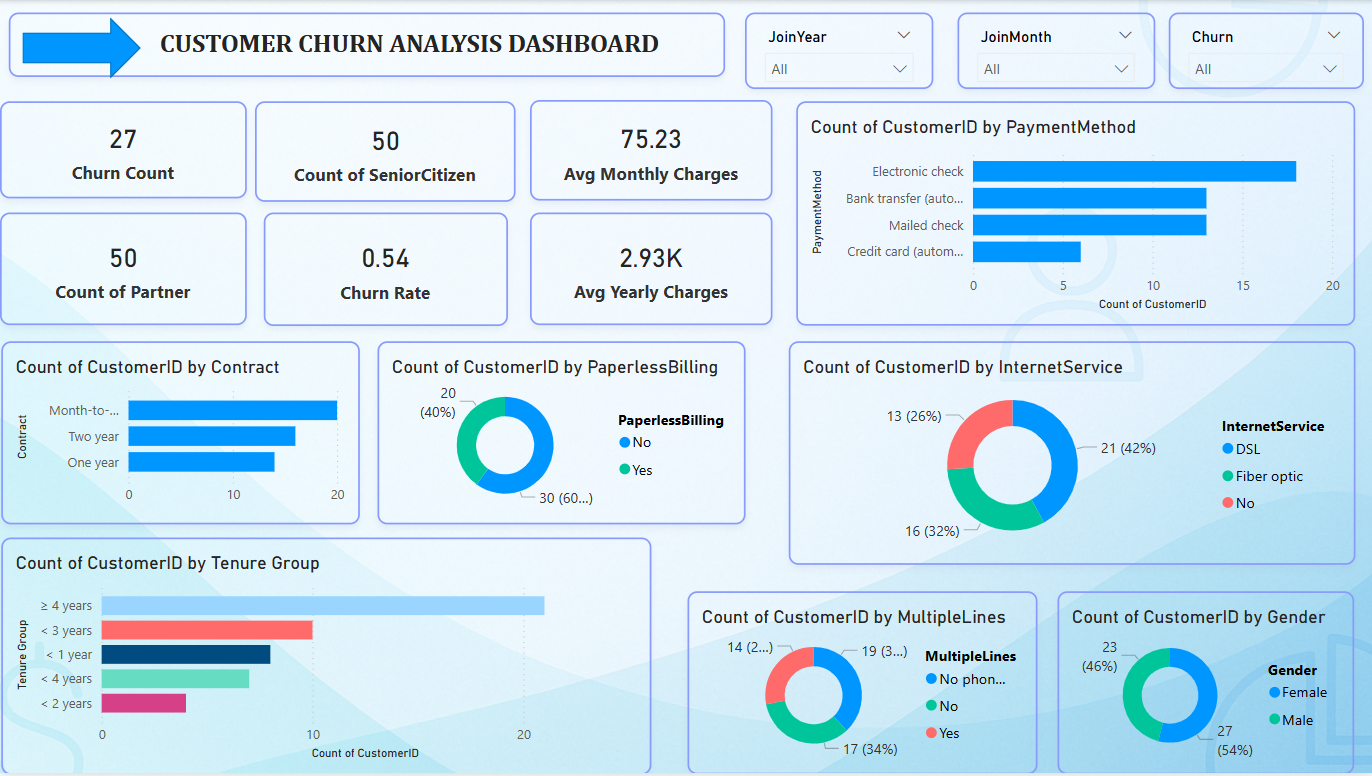

What the dashboard file says about the page in this screenshot:
{"tool":"powerbi","page":{"name":"Customer Churn Analysis","canvas":[1280,720],"ordinal":0},"visuals":[{"type":"card","fields":{"Values":["sample_customer_churn.Churn Count"]},"box":[0,93.7,229.3,90.1],"z":0},{"type":"card","fields":{"Values":["CountNonNull(sample_customer_churn.SeniorCitizen)"]},"box":[237.7,93.7,242.6,93.7],"z":1000},{"type":"card","fields":{"Values":["sample_customer_churn.Avg Monthly Charges"]},"box":[493.5,92.5,225.7,93.7],"z":2000},{"type":"card","fields":{"Values":["sample_customer_churn.Avg Yearly Charges"]},"box":[493.5,198.1,225.7,104.5],"z":3000},{"type":"card","fields":{"Values":["sample_customer_churn.Churn Rate"]},"box":[245,198.1,226.9,105.7],"z":4000},{"type":"card","fields":{"Values":["CountNonNull(sample_customer_churn.Partner)"]},"box":[0,198.1,229.3,104.5],"z":5000},{"type":"donutChart","fields":{"Category":["sample_customer_churn.InternetService"],"Y":["CountNonNull(sample_customer_churn.CustomerID)"]},"box":[733.7,317,527.1,207.7],"z":6000},{"type":"donutChart","fields":{"Category":["sample_customer_churn.PaperlessBilling"],"Y":["CountNonNull(sample_customer_churn.CustomerID)"]},"box":[350.6,317,342.2,170.5],"z":7000},{"type":"donutChart","fields":{"Category":["sample_customer_churn.MultipleLines"],"Y":["CountNonNull(sample_customer_churn.CustomerID)"]},"box":[640,549.9,325.4,170.5],"z":8000},{"type":"donutChart","fields":{"Category":["sample_customer_churn.Gender"],"Y":["CountNonNull(sample_customer_churn.CustomerID)"]},"box":[983.4,549.9,276.2,170.5],"z":9000},{"type":"barChart","fields":{"Y":["CountNonNull(sample_customer_churn.CustomerID)"],"Category":["sample_customer_churn.Contract"]},"box":[1.2,317,333.8,170.5],"z":10000},{"type":"barChart","fields":{"Y":["CountNonNull(sample_customer_churn.CustomerID)"],"Category":["sample_customer_churn.PaymentMethod"]},"box":[740.9,93.7,519.9,208.9],"z":11000},{"type":"barChart","fields":{"Y":["CountNonNull(sample_customer_churn.CustomerID)"],"Category":["sample_customer_churn.Tenure Group"]},"box":[1.2,499.5,605.2,220.9],"z":12000},{"type":"textbox","box":[8.4,12,666.4,60],"z":13000},{"type":"slicer","fields":{"Values":["sample_customer_churn.JoinMonth"]},"box":[891,12,183.7,70.8],"z":14000},{"type":"slicer","fields":{"Values":["sample_customer_churn.JoinYear"]},"box":[692.8,12,175.3,70.8],"z":15000},{"type":"slicer","fields":{"Values":["sample_customer_churn.Churn"]},"box":[1086.7,12,181.3,70.8],"z":16000},{"type":"shape","box":[20.4,15.9,110,56.7],"z":17000}]}

Visuals, with their boxes in screenshot pixels (x1, y1, x2, y2), scaled from the page's 1280x720 canvas onto the 1372x776 screenshot:
card - sample_customer_churn.Churn Count: bbox(0, 101, 246, 198)
card - CountNonNull(sample_customer_churn.SeniorCitizen): bbox(255, 101, 515, 202)
card - sample_customer_churn.Avg Monthly Charges: bbox(529, 100, 771, 201)
card - sample_customer_churn.Avg Yearly Charges: bbox(529, 214, 771, 326)
card - sample_customer_churn.Churn Rate: bbox(263, 214, 506, 327)
card - CountNonNull(sample_customer_churn.Partner): bbox(0, 214, 246, 326)
donutChart - sample_customer_churn.InternetService x CountNonNull(sample_customer_churn.CustomerID): bbox(786, 342, 1351, 566)
donutChart - sample_customer_churn.PaperlessBilling x CountNonNull(sample_customer_churn.CustomerID): bbox(376, 342, 743, 525)
donutChart - sample_customer_churn.MultipleLines x CountNonNull(sample_customer_churn.CustomerID): bbox(686, 593, 1035, 775)
donutChart - sample_customer_churn.Gender x CountNonNull(sample_customer_churn.CustomerID): bbox(1054, 593, 1350, 775)
barChart - CountNonNull(sample_customer_churn.CustomerID) x sample_customer_churn.Contract: bbox(1, 342, 359, 525)
barChart - CountNonNull(sample_customer_churn.CustomerID) x sample_customer_churn.PaymentMethod: bbox(794, 101, 1351, 326)
barChart - CountNonNull(sample_customer_churn.CustomerID) x sample_customer_churn.Tenure Group: bbox(1, 538, 650, 775)
textbox: bbox(9, 13, 723, 78)
slicer - sample_customer_churn.JoinMonth: bbox(955, 13, 1152, 89)
slicer - sample_customer_churn.JoinYear: bbox(743, 13, 930, 89)
slicer - sample_customer_churn.Churn: bbox(1165, 13, 1359, 89)
shape: bbox(22, 17, 140, 78)
